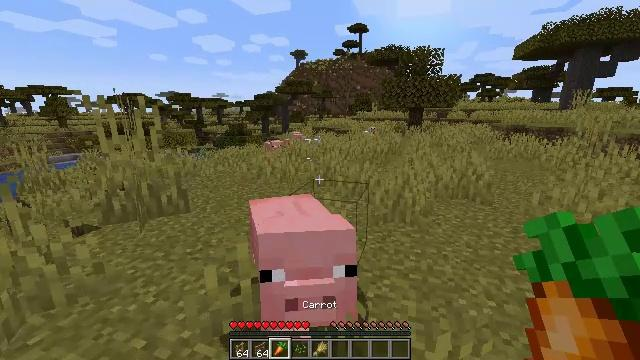chicken: (363, 127, 377, 137)
pig: (250, 192, 358, 339), (265, 140, 282, 150)
